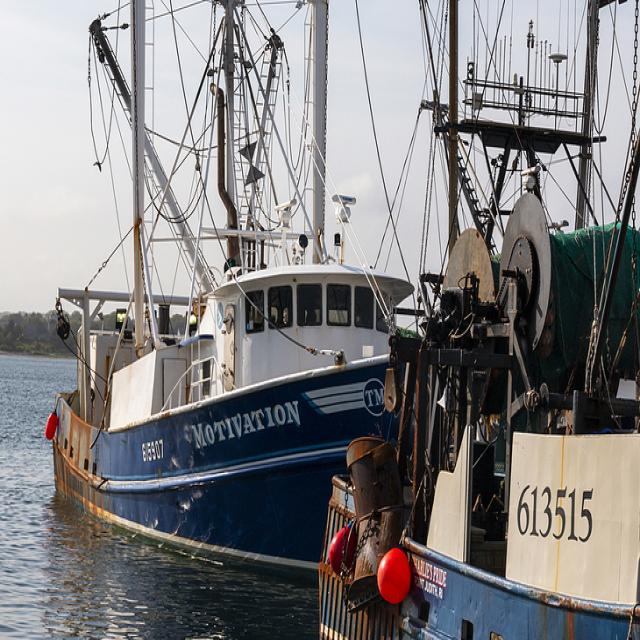boat: (30, 0, 419, 596)
